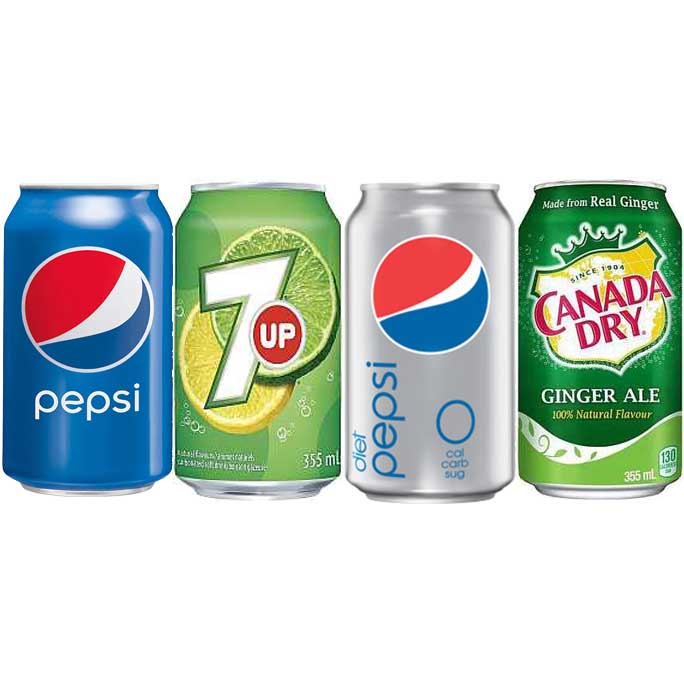can: (1, 180, 684, 508)
